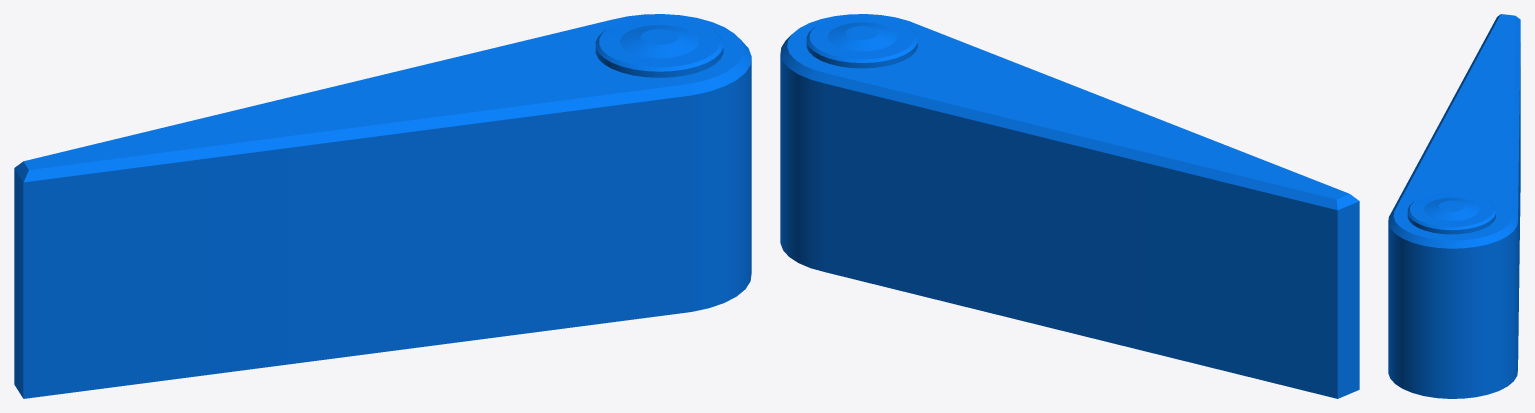
Rendered from SM_FlipperLeft.fbx.
The picture shows the model from 3 angles, left to right: view 1: azimuth 30°, elevation 25°; view 2: azimuth 150°, elevation 25°; view 3: azimuth 270°, elevation 25°; orthographic projection. The views are drawn at different scales.
Visible parts, largest first — view 1: Flippers_001; view 2: Flippers_001; view 3: Flippers_001.
Part boxes in pixels (left/top/right/bottom): Flippers_001: left=14, top=14, right=751, bottom=398; Flippers_001: left=780, top=14, right=1359, bottom=398; Flippers_001: left=1388, top=14, right=1520, bottom=398.
Bounding box in the file's own units: 6.93 × 2.31 × 1.68.
